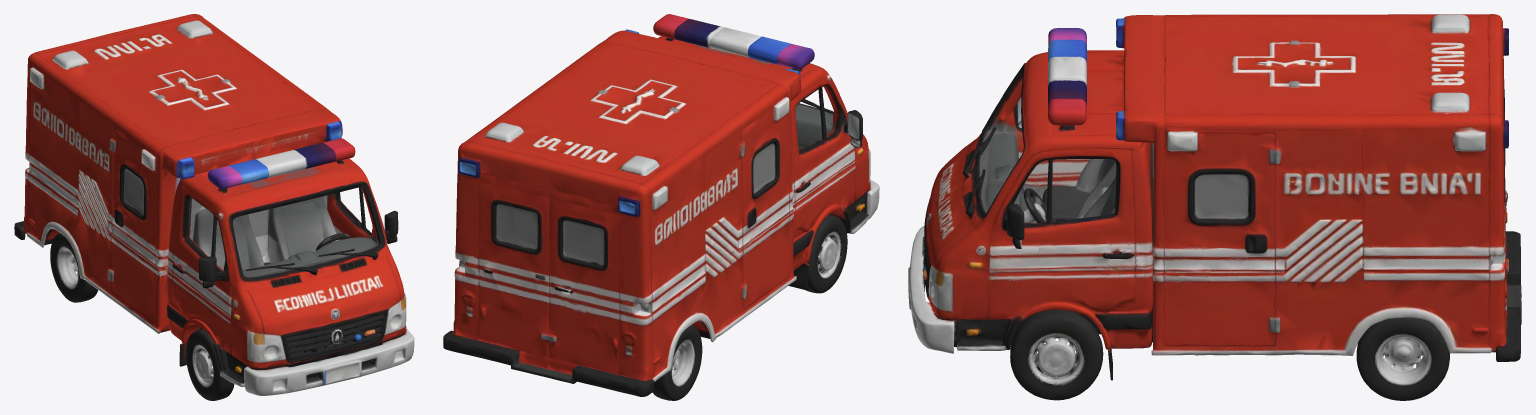
The model's file is 060_ambulance_red.glb.
The picture shows the model from 3 angles, left to right: view 1: azimuth 30°, elevation 25°; view 2: azimuth 150°, elevation 25°; view 3: azimuth 270°, elevation 25°; orthographic projection. The views are drawn at different scales.
Parts seen in each view (by area): view 1: geometry_0; view 2: geometry_0; view 3: geometry_0.
Boxes of the visible parts, x1=… form: geometry_0: x1=14, y1=14, x2=414, y2=400; geometry_0: x1=443, y1=14, x2=879, y2=400; geometry_0: x1=908, y1=14, x2=1521, y2=400.
Size of the model in its own units: 3.13 by 3.42 by 6.5.
1 material, 1 textured.
